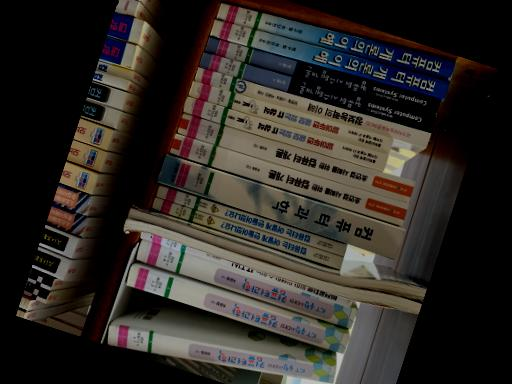book-spine: (156, 153, 404, 259), (175, 112, 414, 203), (168, 133, 406, 224), (135, 239, 356, 329), (125, 264, 348, 353), (192, 66, 430, 148), (208, 18, 448, 99), (197, 51, 434, 132), (203, 36, 439, 115), (214, 2, 454, 79), (139, 231, 351, 307), (181, 96, 387, 171), (187, 81, 391, 153), (155, 184, 345, 257), (151, 197, 342, 269), (107, 325, 334, 383)
